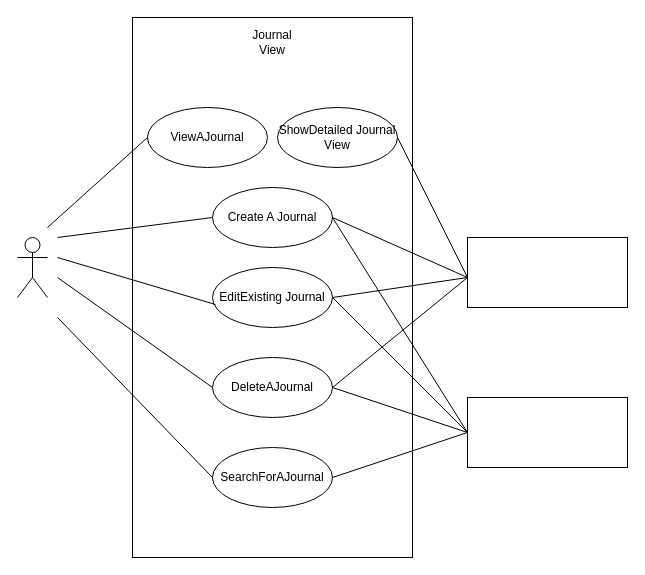
Image size: 645x575. Some labels were removed from this diagram. The centre of each missing label's shape, as x and y in pixels:
<<actor>> Application: the point at 547,272
<<actor>> Application Database: the point at 547,432
User: the point at 32,267
